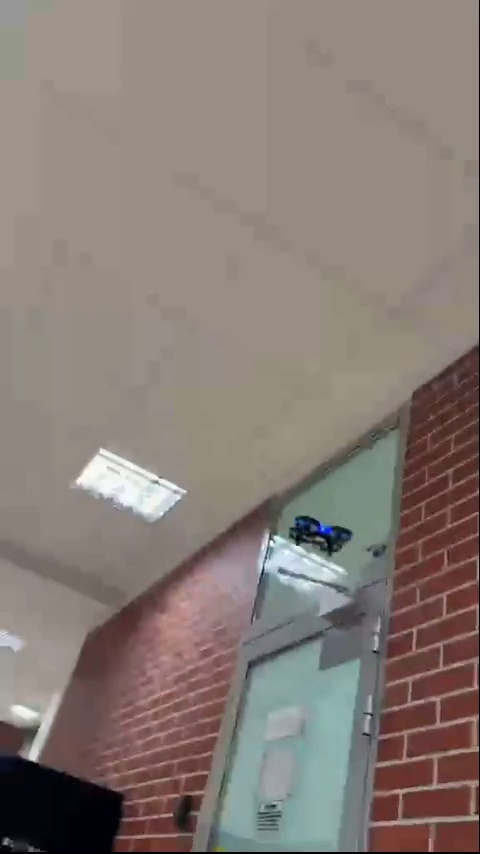drone: (288, 515, 354, 563)
